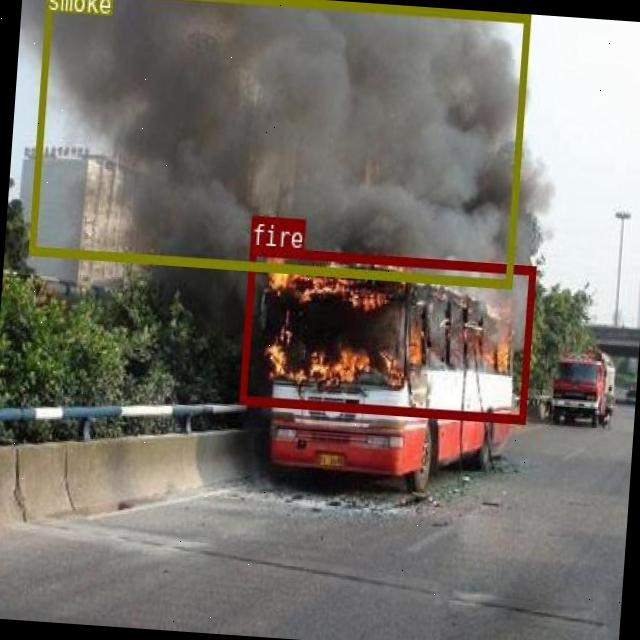fire: (238, 245, 534, 420)
smoke: (27, 0, 529, 287)
